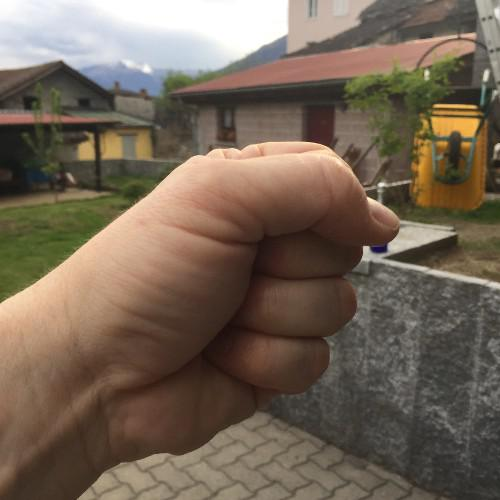rock: (52, 139, 406, 470)
